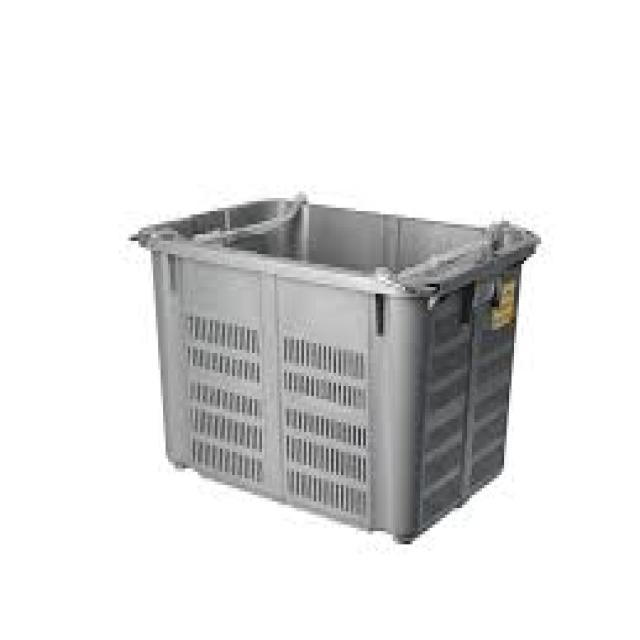basket: (102, 177, 541, 551)
